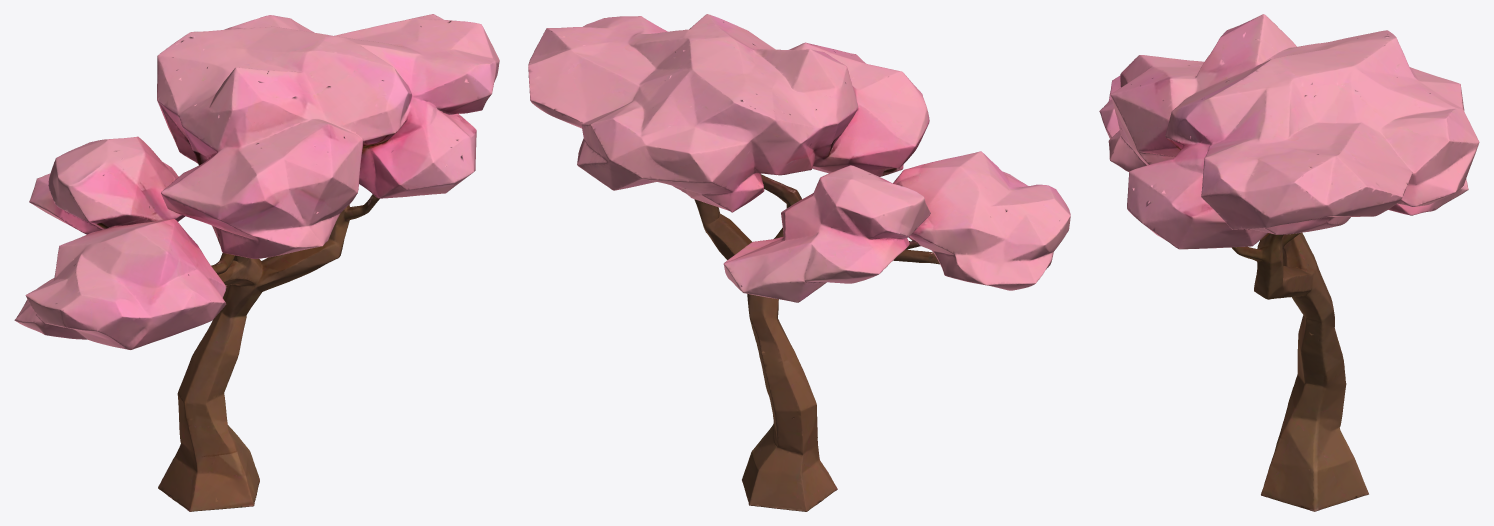
Rendered from low-poly-sakura.glb.
3 views of the same model, side by side, from view 1: azimuth 30°, elevation 25°; view 2: azimuth 150°, elevation 25°; view 3: azimuth 270°, elevation 25° (orthographic). The views are drawn at different scales.
Visible parts, largest first — view 1: input_Material.001_0; view 2: input_Material.001_0; view 3: input_Material.001_0.
Boxes of the visible parts, <box> form: input_Material.001_0: <box>14,14,499,511</box>; input_Material.001_0: <box>528,14,1070,511</box>; input_Material.001_0: <box>1099,14,1479,511</box>.
Size of the model in its own units: 1.98 by 1.69 by 1.23.
Materials: 1 (1 with a texture image).
